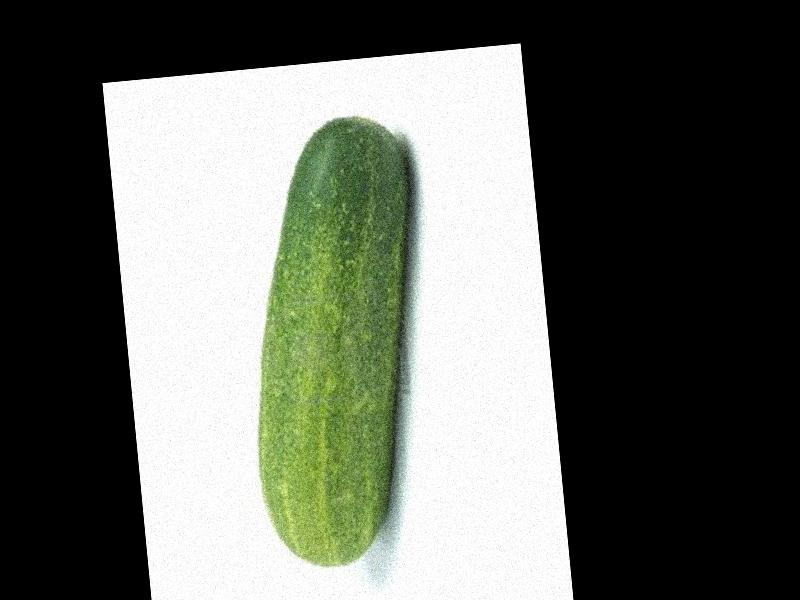Cucumber: (228, 113, 445, 572)
